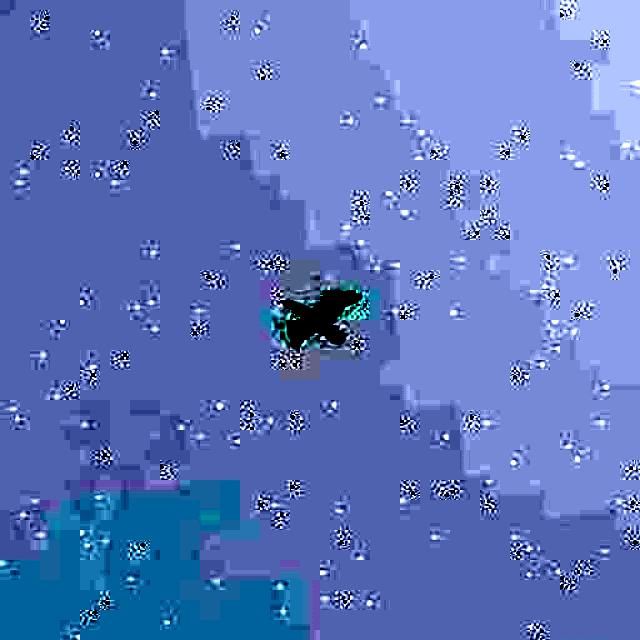airplane: (278, 286, 368, 354)
